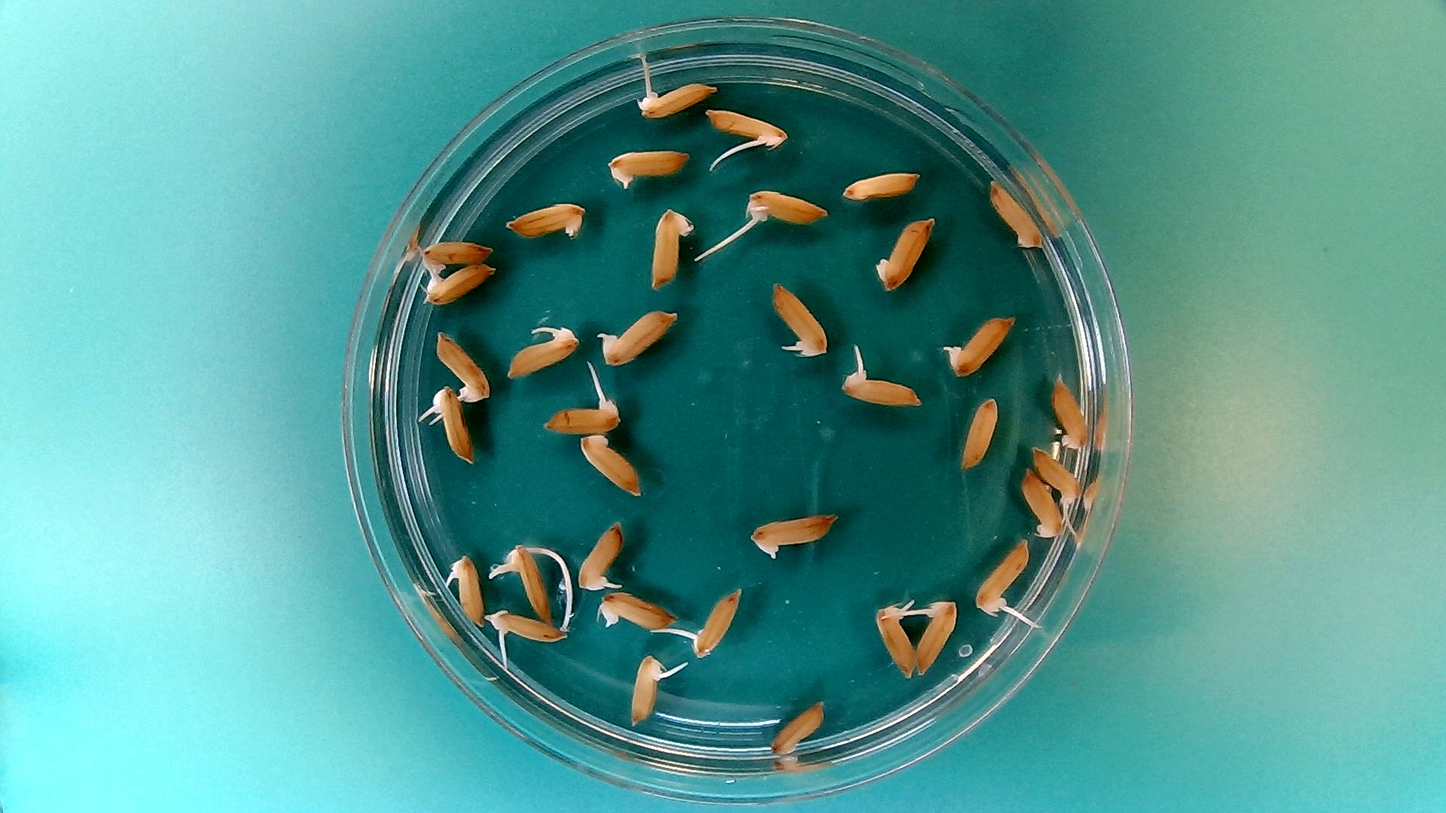no: (877, 211, 941, 294), (645, 202, 697, 293), (986, 176, 1047, 251), (578, 433, 645, 497), (603, 144, 692, 190), (502, 196, 590, 240), (752, 513, 834, 560), (596, 590, 680, 634), (1018, 467, 1066, 539), (767, 700, 828, 755), (958, 392, 1002, 468), (1050, 370, 1091, 449), (837, 166, 923, 203)
yes: (768, 276, 831, 361), (504, 320, 582, 379), (600, 308, 678, 367), (947, 313, 1013, 379), (977, 534, 1030, 615), (739, 184, 833, 229), (435, 330, 492, 403), (703, 103, 790, 150), (913, 594, 960, 678), (871, 596, 917, 681), (505, 544, 553, 623), (434, 387, 475, 472), (575, 522, 623, 594), (416, 233, 498, 273), (638, 80, 715, 122), (484, 609, 569, 647), (443, 550, 484, 626), (423, 266, 500, 306), (693, 591, 740, 655), (1029, 449, 1078, 507), (837, 373, 920, 407), (541, 397, 618, 432), (631, 653, 666, 723)
